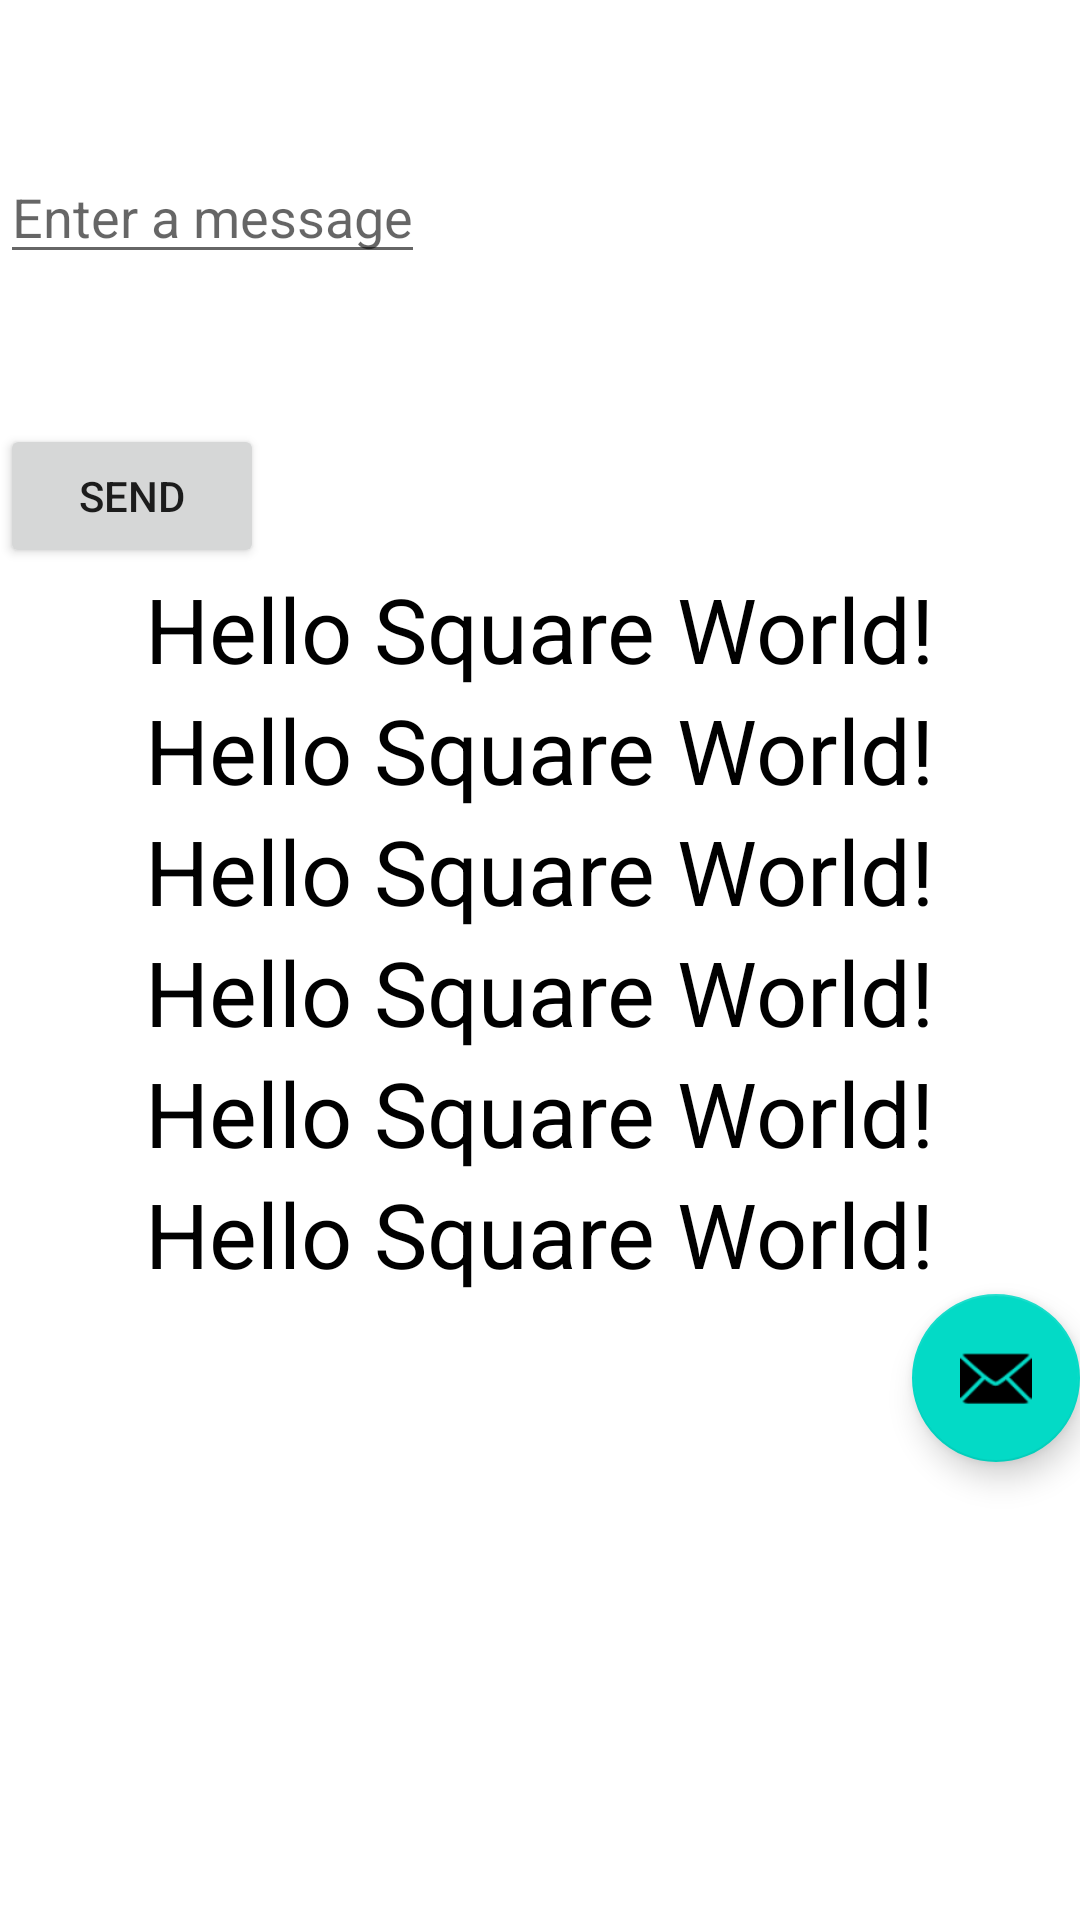

Screen size 1080w x 1920h. Icon name, then its center in pixels as (x=x, y=y):
email: (x=996, y=1378)
